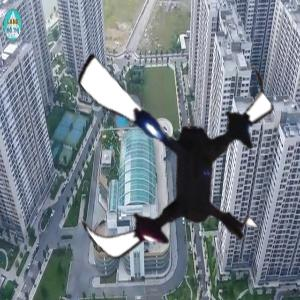drone: (44, 29, 295, 280)
